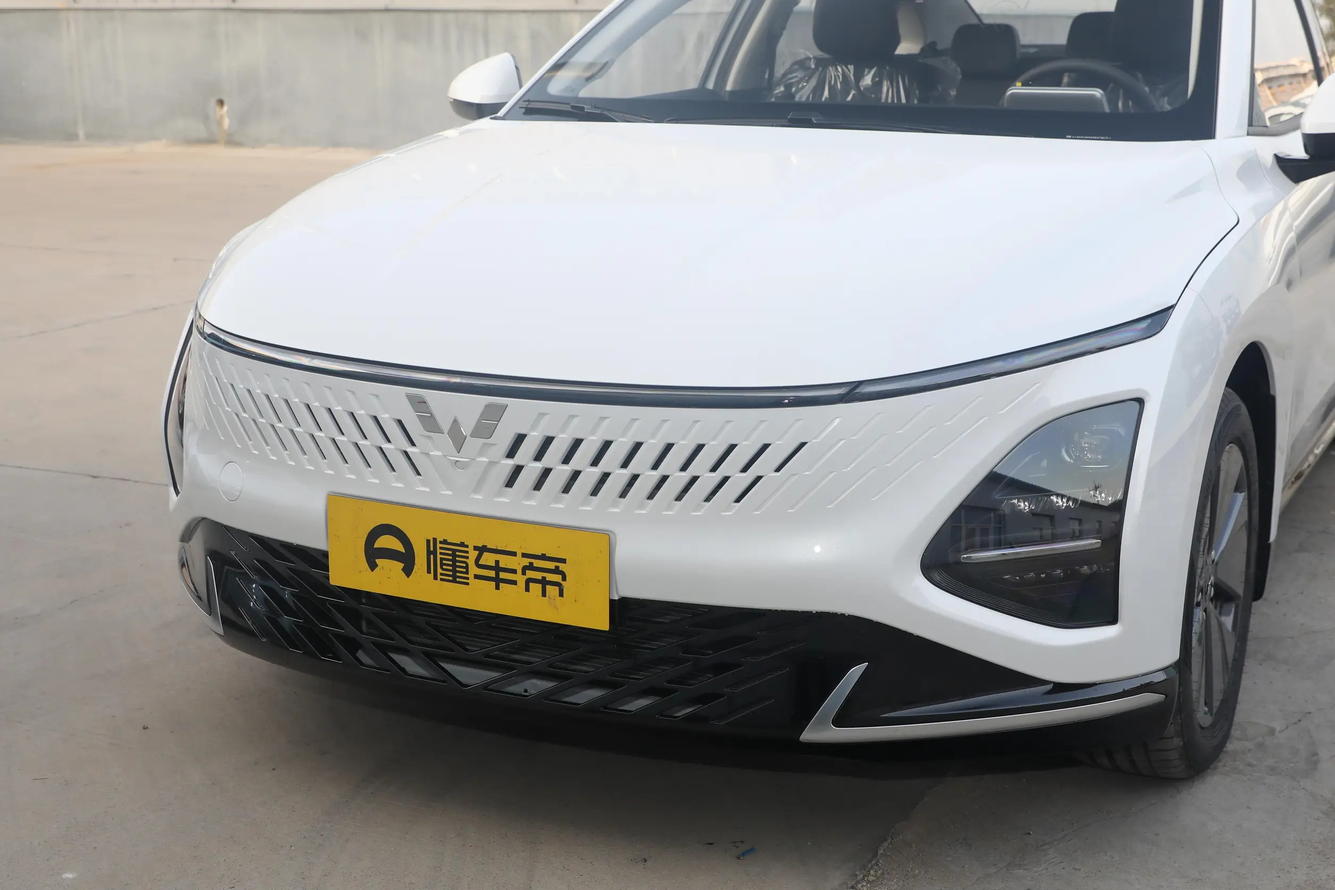SGMW: (405, 393, 507, 454)
